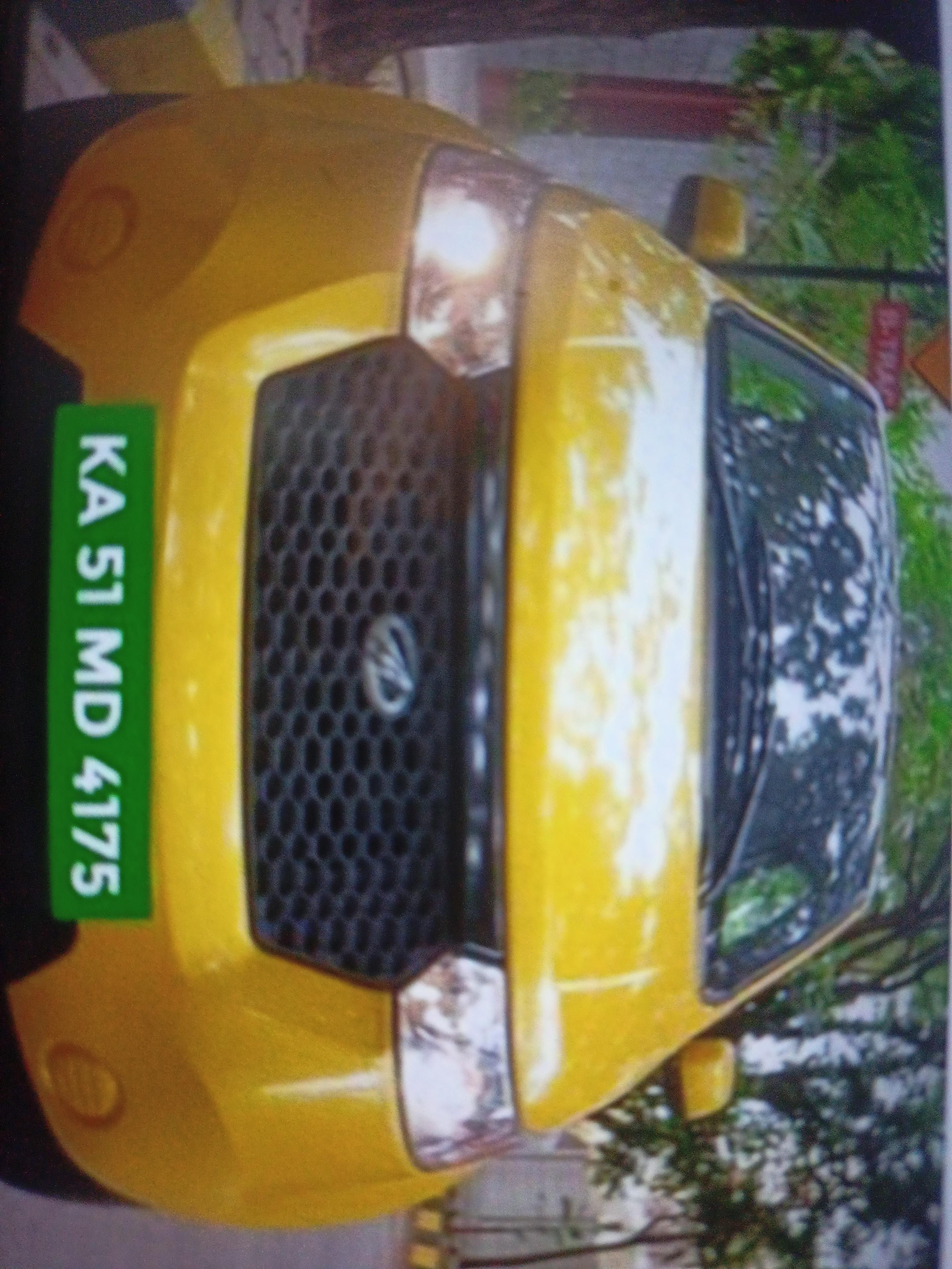green license plate: (45, 400, 163, 920)
